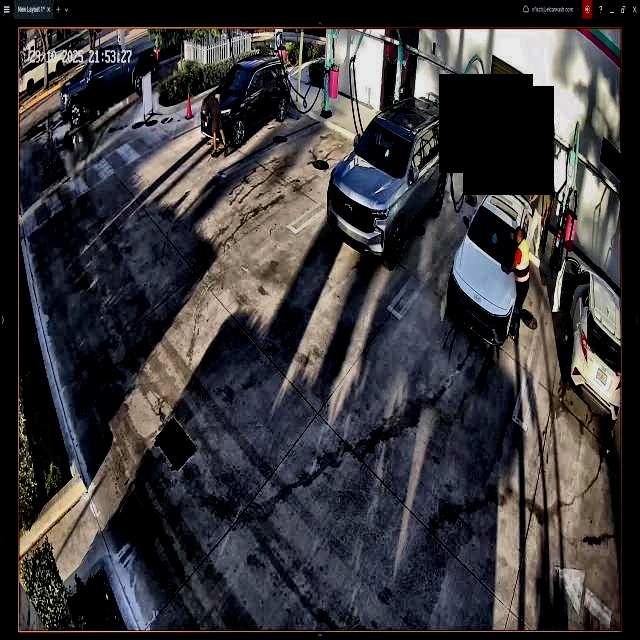Car: (325, 96, 450, 264), (449, 181, 530, 339)
